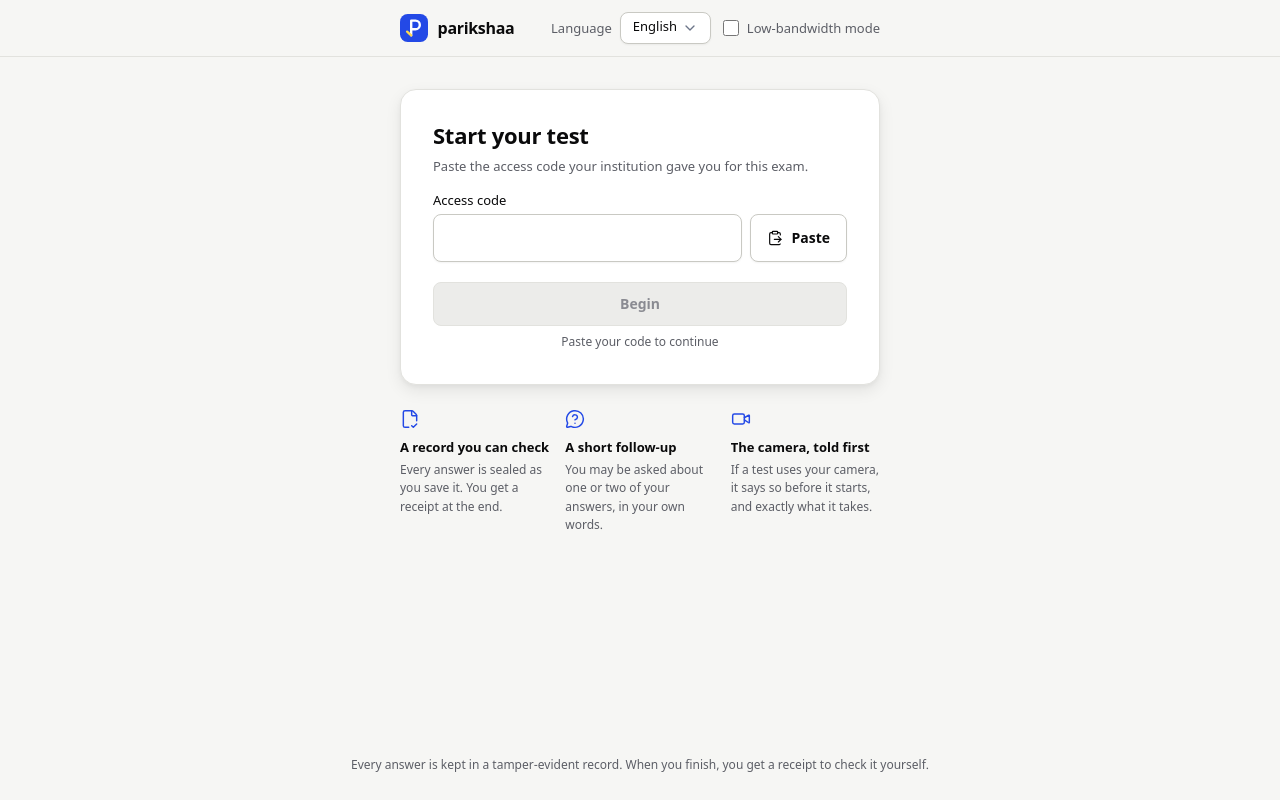
an invitation link › accepts an invitation code pasted into the code box
Type "org-a.inv-1.MAC" into the field labelled "Access code" at (588, 238), box [433,214,742,262]
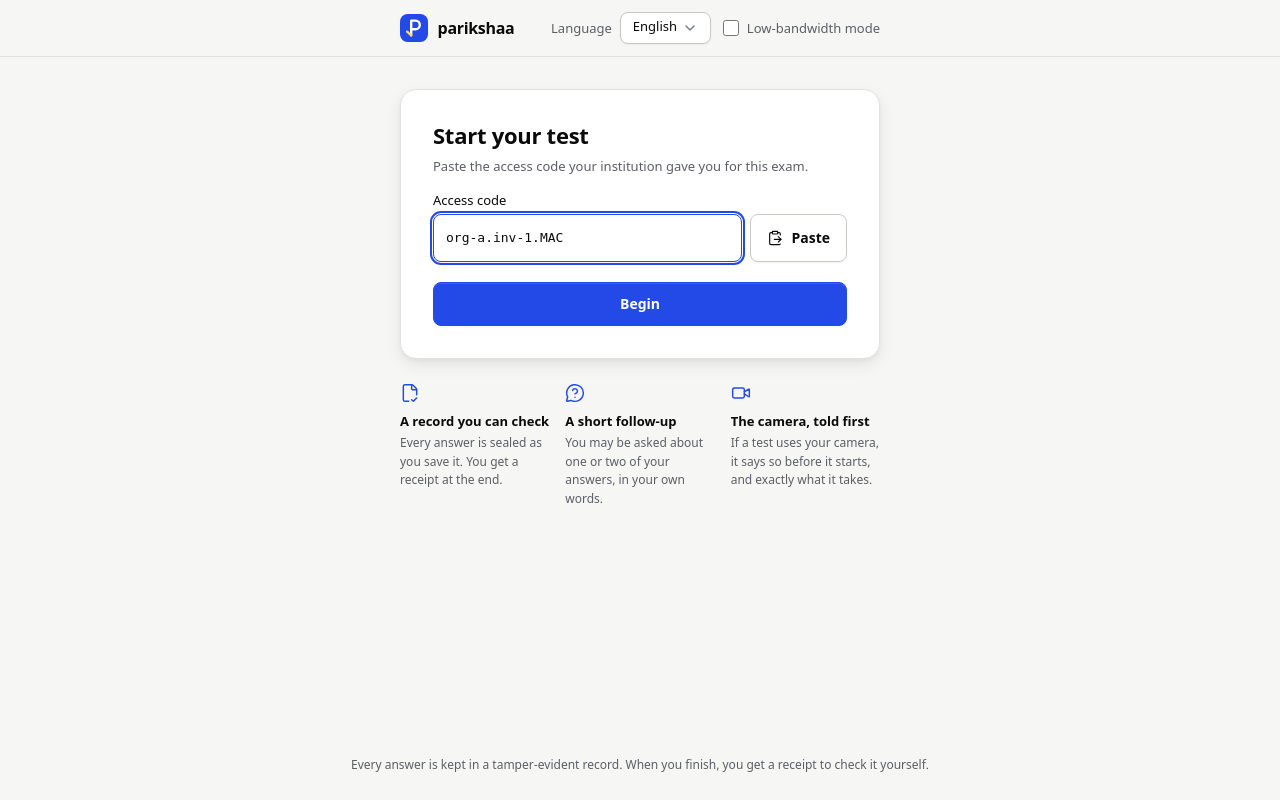
Click the button "Begin" at (640, 304), box [433,282,847,326]
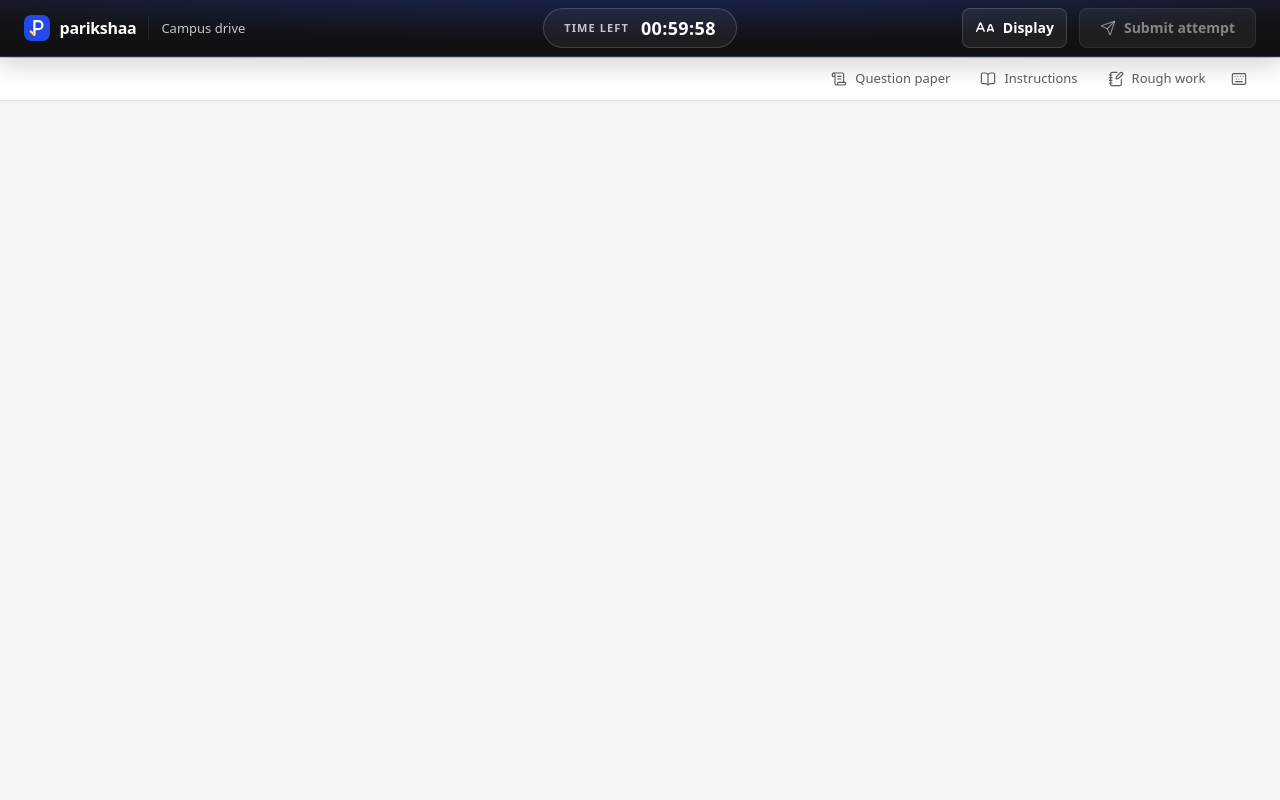
Expected: the heading "Campus drive" is shown, [161,20,245,36]
